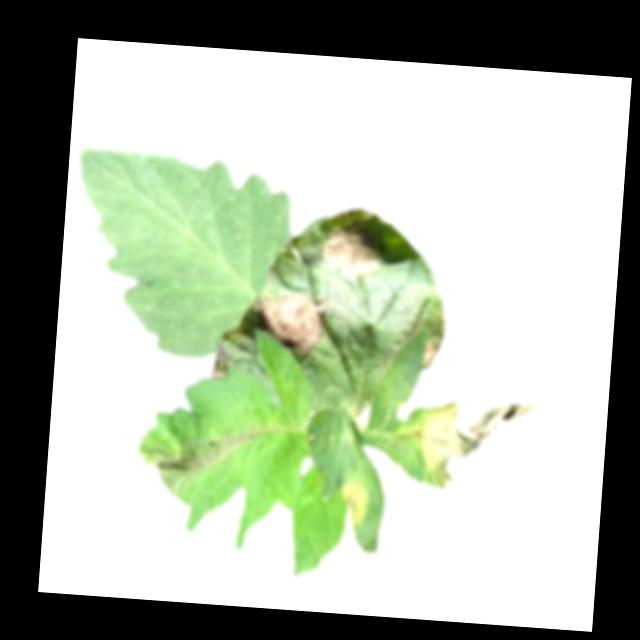Late_blight: (409, 392, 535, 494), (133, 426, 232, 496), (251, 288, 335, 363), (315, 219, 385, 275), (333, 476, 370, 533), (209, 348, 231, 380), (421, 333, 440, 366)
healthy: (65, 145, 297, 364)
